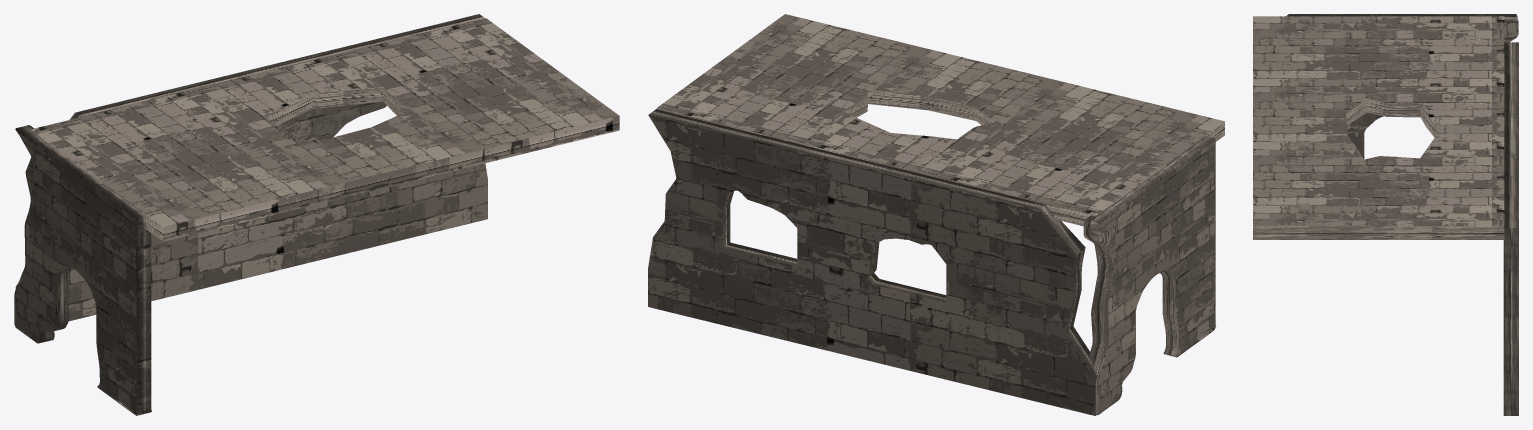
The model's file is Construção.fbx.
3 renders of one model, left to right at view 1: azimuth 30°, elevation 25°; view 2: azimuth 150°, elevation 25°; view 3: azimuth 270°, elevation 25°, orthographic. The views are drawn at different scales.
Parts seen in each view (by area): view 1: Cube.002, Cube.001, Cube; view 2: Cube.001, Cube.002, Cube; view 3: Cube.002, Cube.001, Cube.
Boxes of the visible parts, x1,y1,x2,y2 form: Cube.002: (30,18,619,241); Cube.001: (15,14,487,321); Cube: (14,125,151,415); Cube.001: (648,109,1097,415); Cube.002: (656,14,1224,226); Cube: (1083,136,1216,415); Cube.002: (1253,16,1504,239); Cube.001: (1503,42,1518,415); Cube: (1286,14,1518,158).
Size of the model in its own units: 1490 by 614 by 781.
